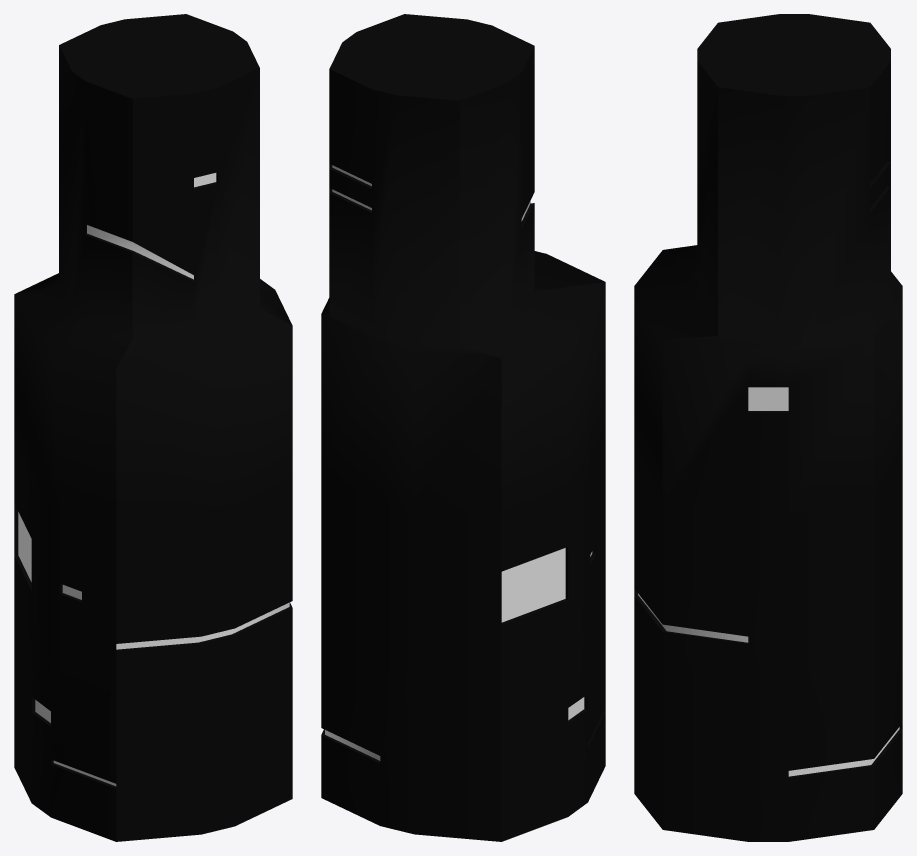
Rendered from Tron Building 2.FBX.
3 views of the same model, side by side, from view 1: azimuth 30°, elevation 25°; view 2: azimuth 150°, elevation 25°; view 3: azimuth 270°, elevation 25° (orthographic). The views are drawn at different scales.
Parts seen in each view (by area): view 1: Box001; view 2: Box001; view 3: Box001.
Part boxes in pixels (box(x1,y1,x2,y2)): Box001: box(14, 14, 292, 841); Box001: box(321, 14, 605, 841); Box001: box(634, 14, 902, 841).
Bounding box in the file's own units: 55 × 167 × 55.
Materials: 1 (1 with a texture image).
